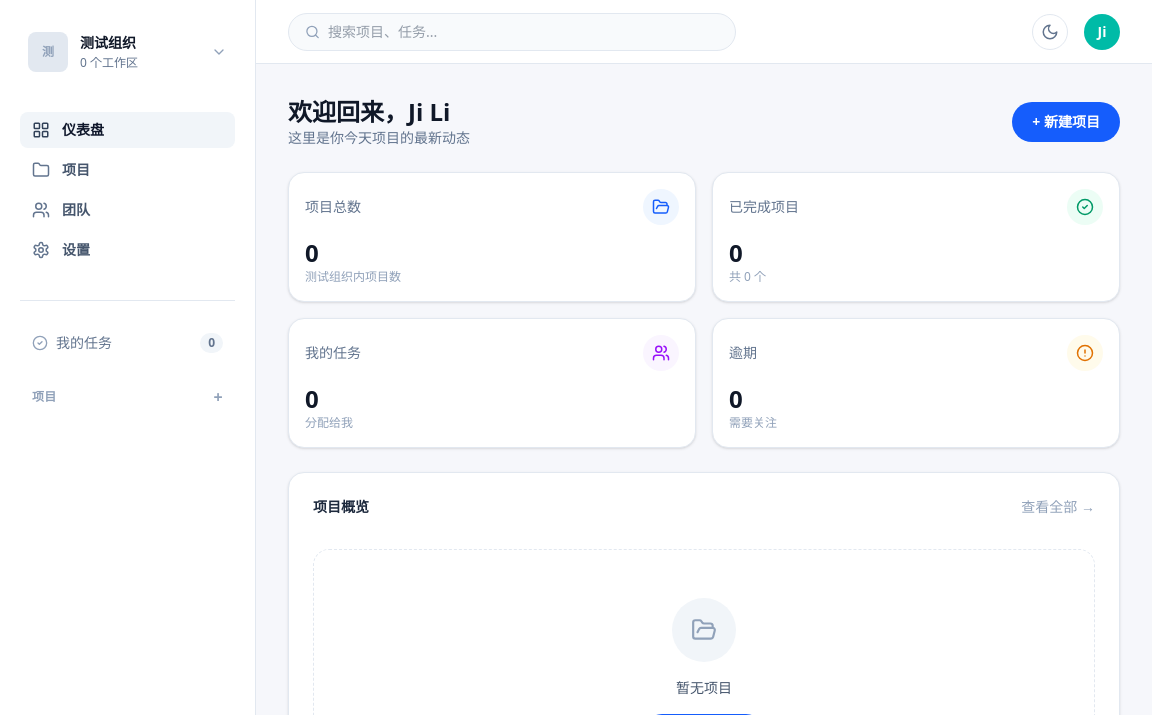
Test case: SettingsDialog › opens and closes via close button
Click the button with test id "nav-settings" at x=128, y=250, box [20, 232, 235, 268]
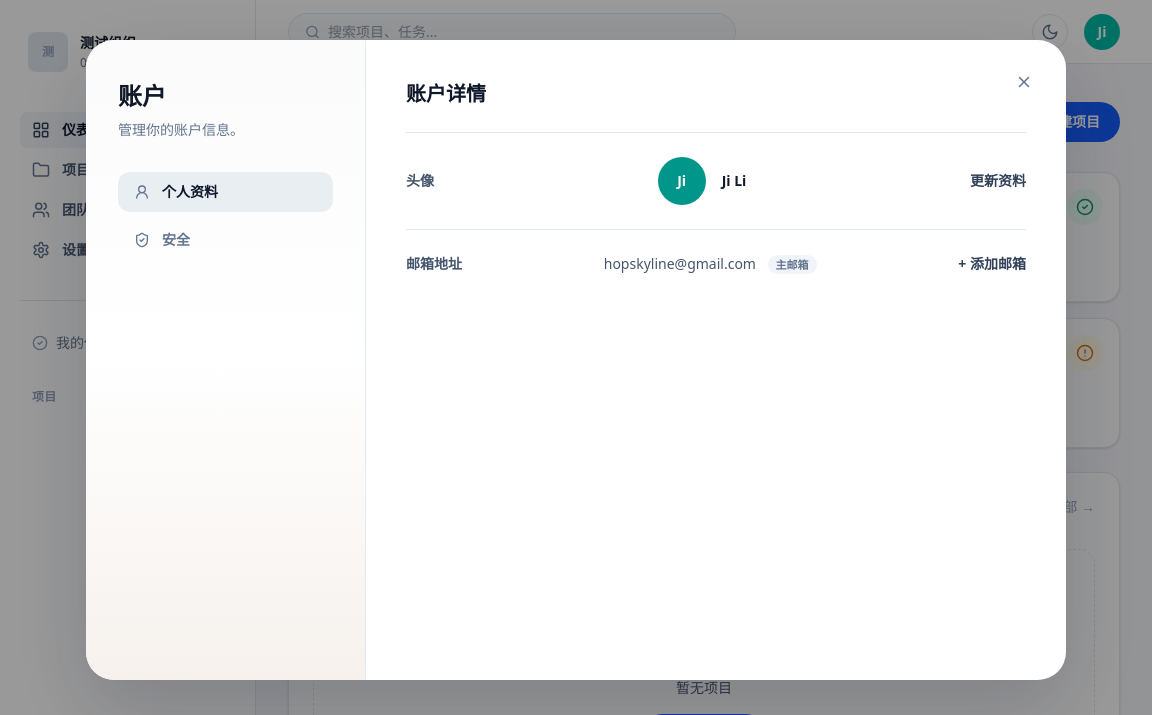
Result: the element with test id "settings-dialog" is shown
Click the button with test id "settings-close" at x=1024, y=82, box [1006, 64, 1042, 100]
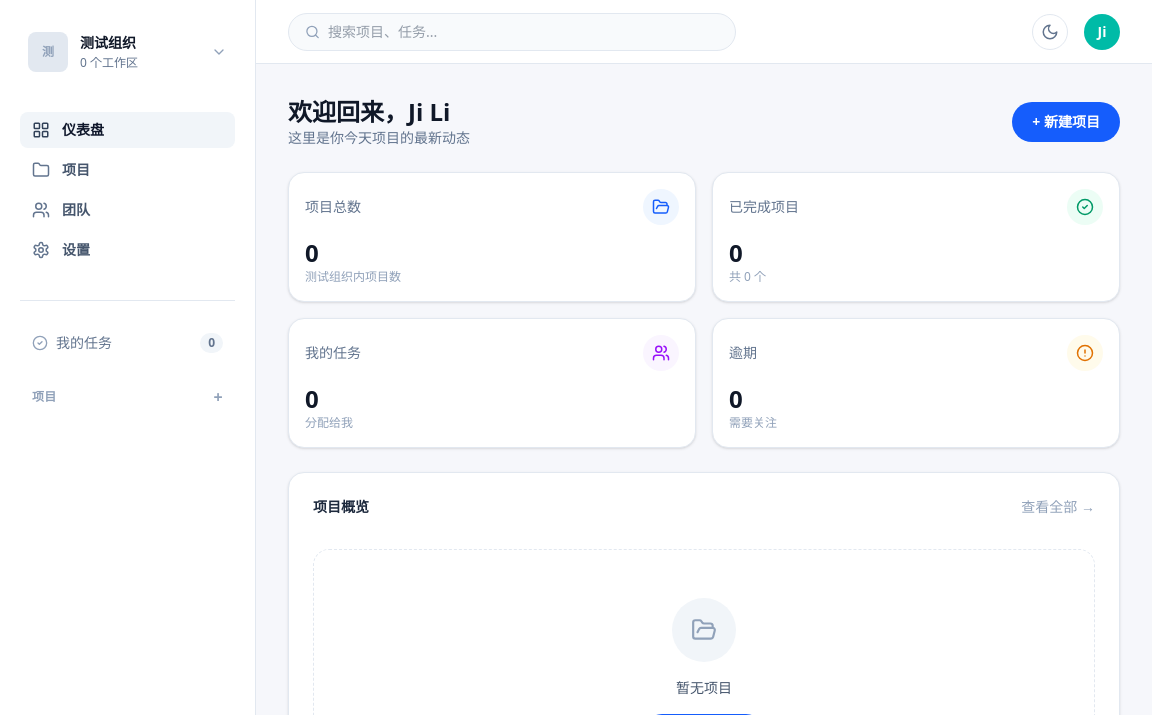
Result: the element with test id "settings-dialog" is gone
